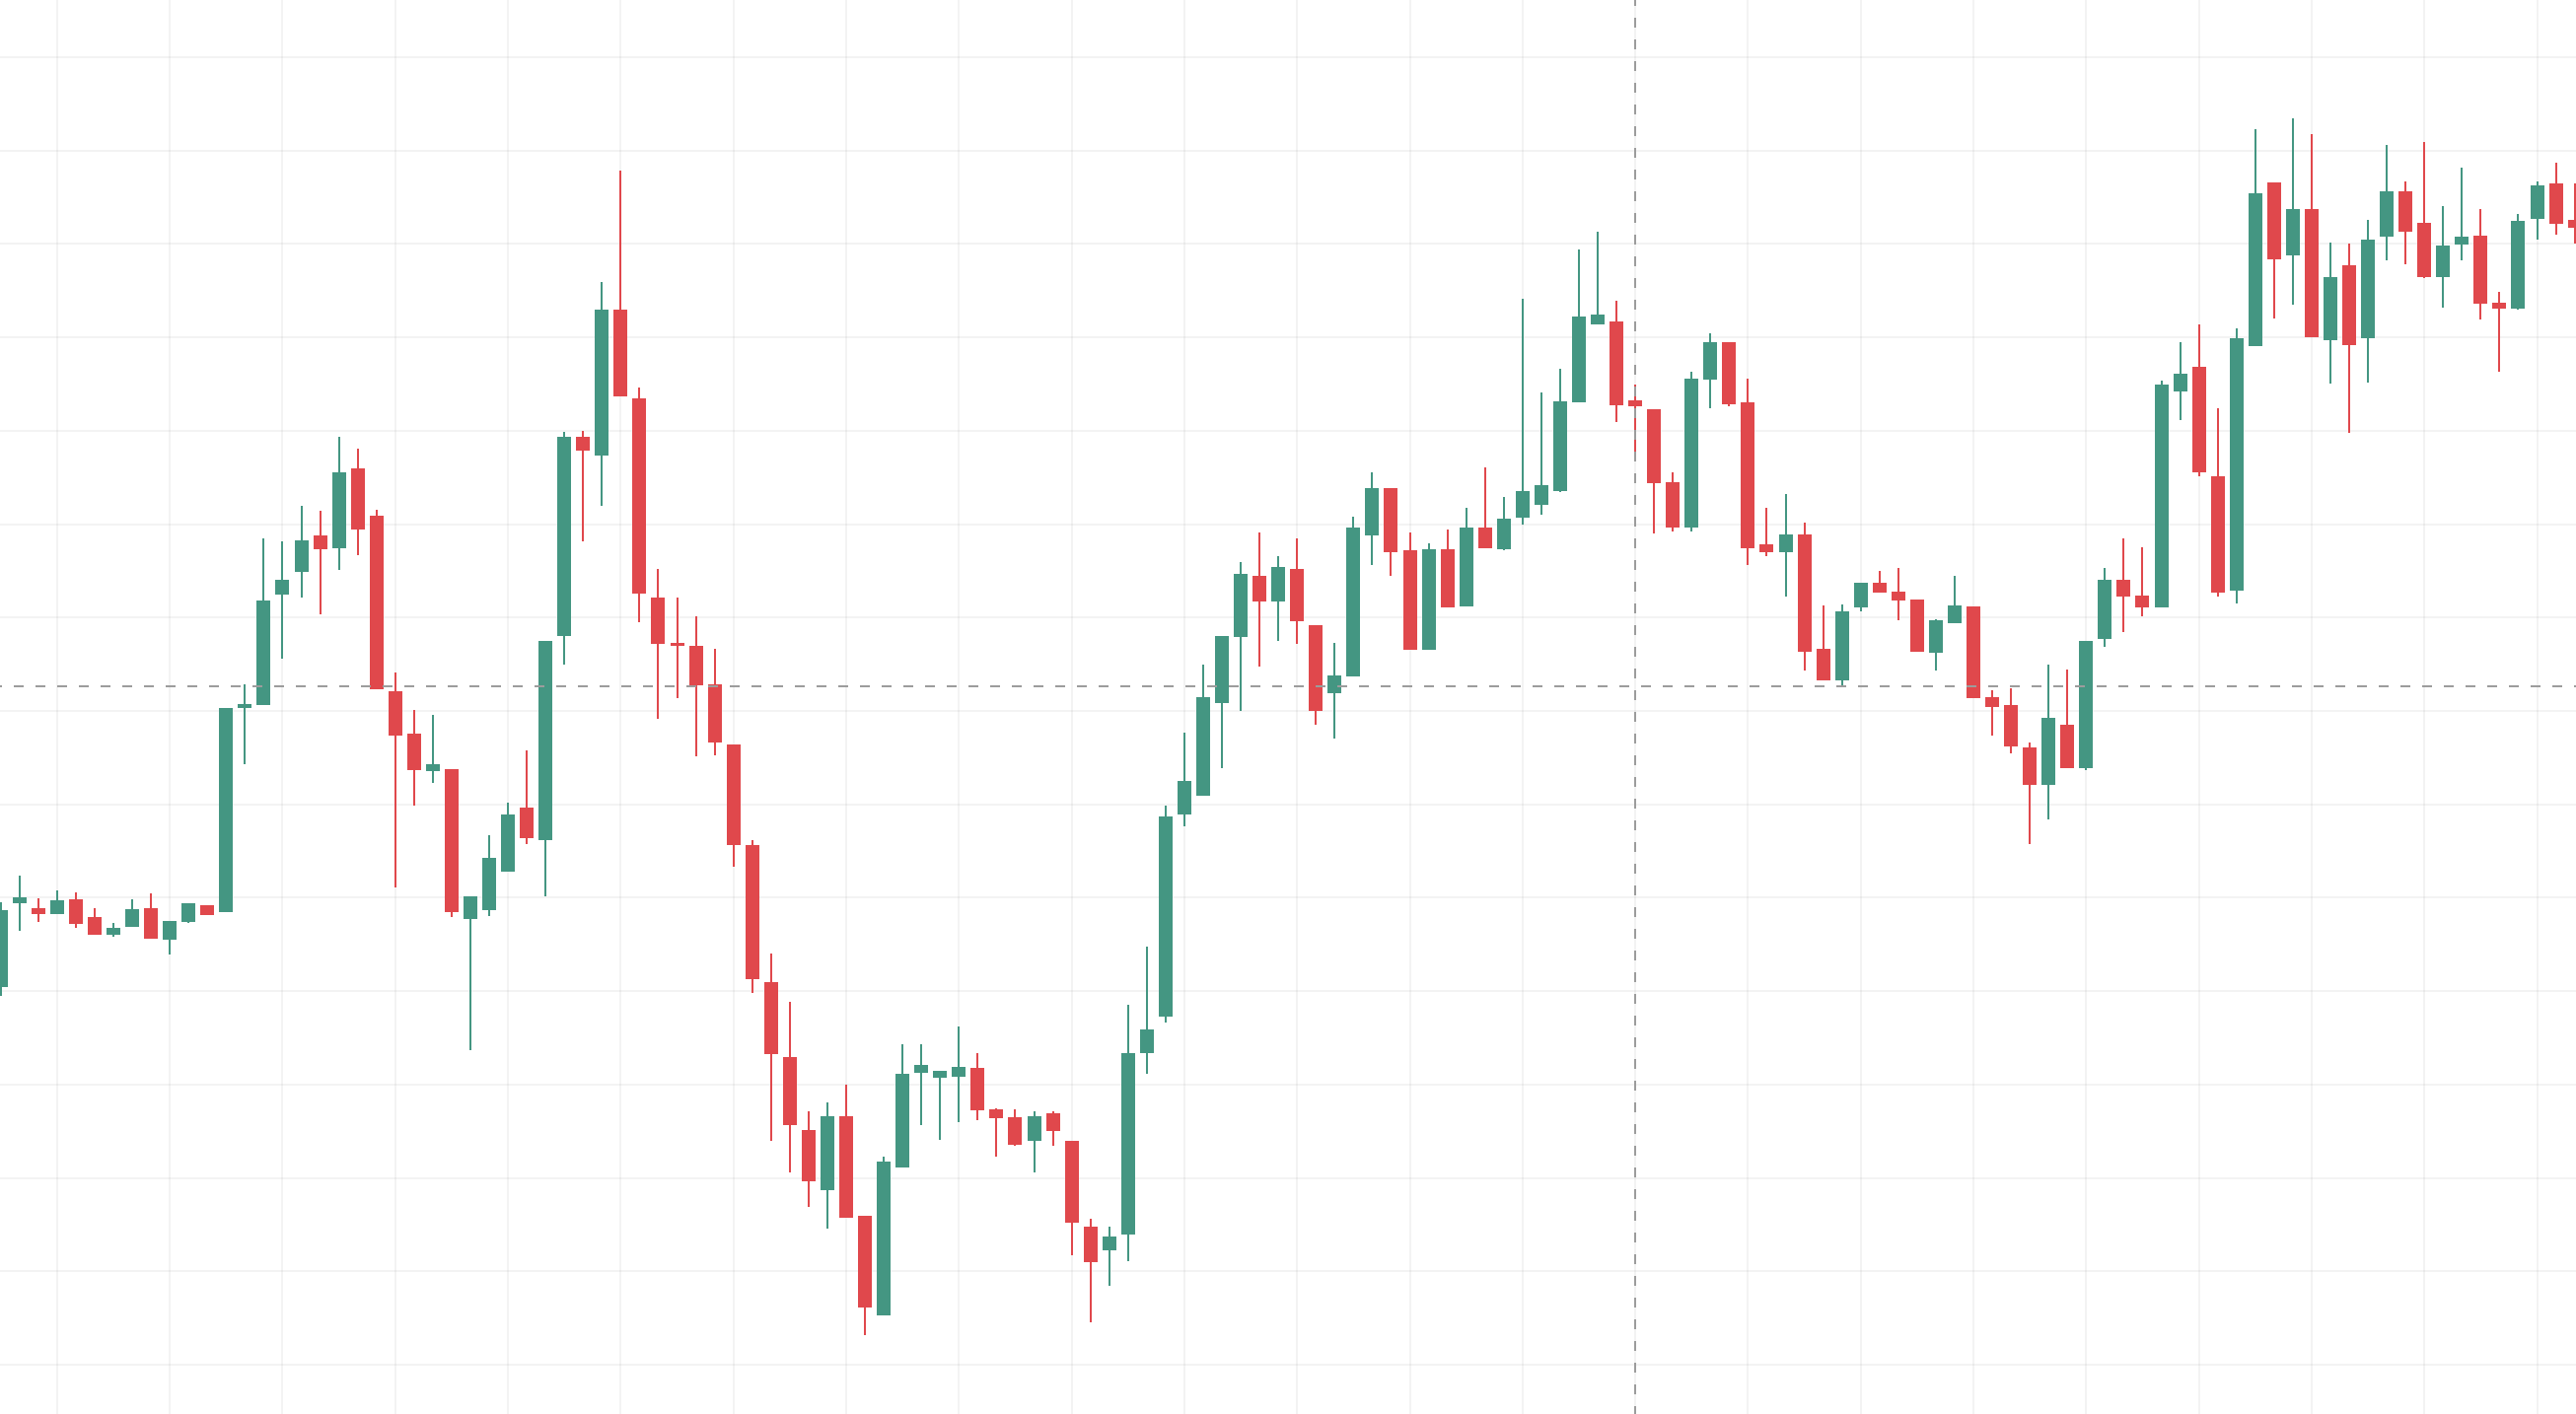V-turn: (585, 162, 939, 1348)
